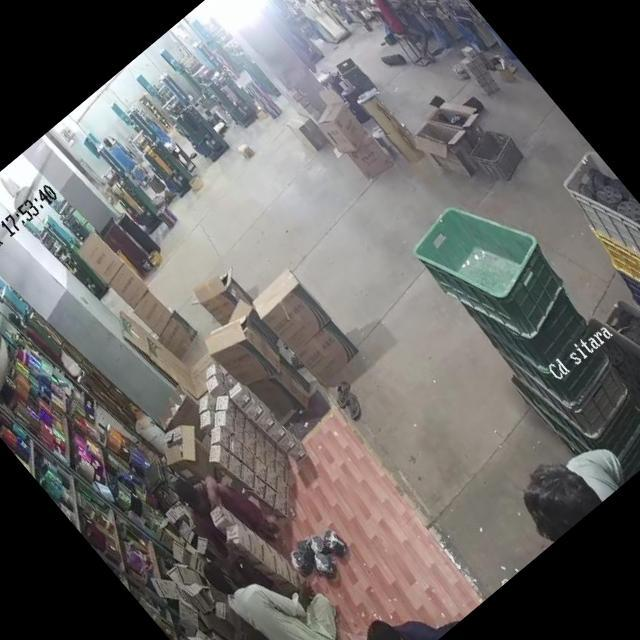person: (199, 512, 367, 640), (506, 426, 632, 546), (161, 444, 276, 564), (320, 570, 463, 640), (4, 301, 82, 389), (354, 0, 439, 64), (100, 131, 142, 177)
